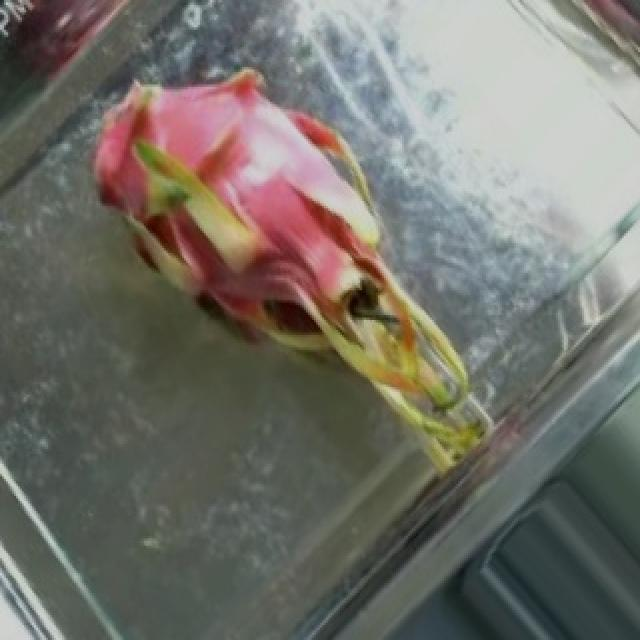fruit: (28, 10, 454, 464)
